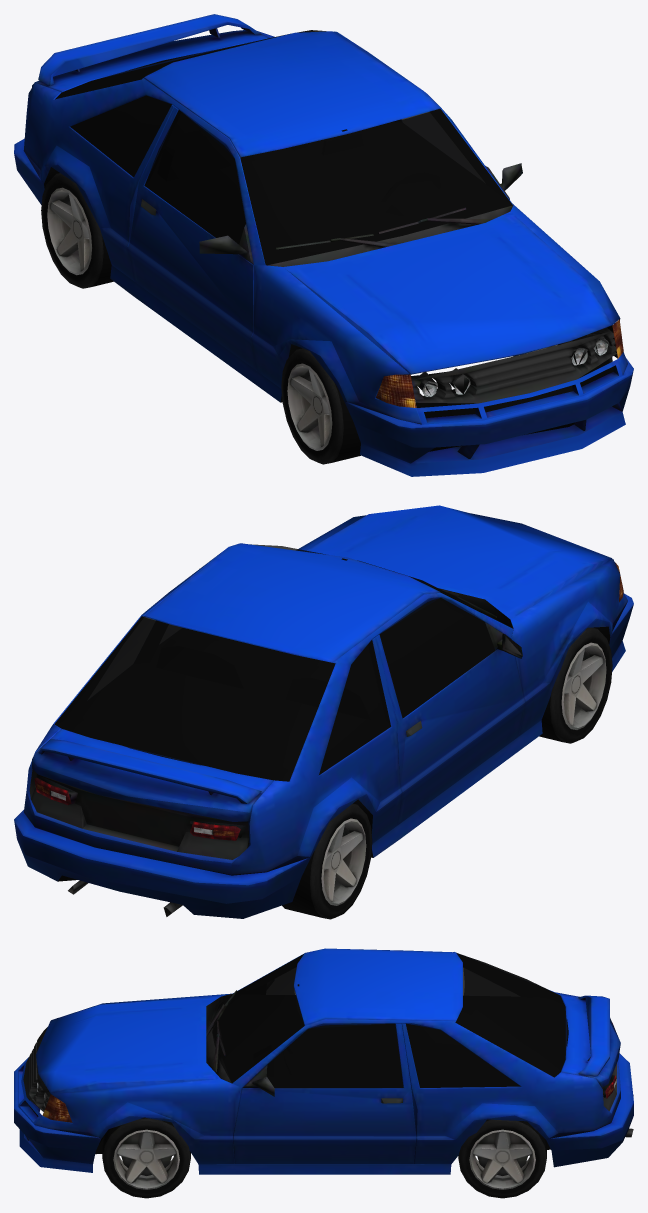
Rendered from coupe_lo.glb.
3 renders of one model, top to bottom at view 1: azimuth 30°, elevation 25°; view 2: azimuth 150°, elevation 25°; view 3: azimuth 270°, elevation 25°, orthographic. The views are drawn at different scales.
Visible parts, largest first — view 1: body, wheel_fr, wheel_rr; view 2: body, wheel_rr, wheel_fr; view 3: body, wheel_fl, wheel_rl.
Boxes of the visible parts, x1,y1,x2,y2 form: body: [14, 14, 633, 476]; wheel_fr: [281, 348, 360, 464]; wheel_rr: [41, 173, 113, 288]; body: [14, 505, 633, 918]; wheel_rr: [282, 803, 372, 919]; wheel_fr: [539, 627, 612, 743]; body: [14, 948, 633, 1174]; wheel_fl: [102, 1117, 190, 1198]; wheel_rl: [458, 1119, 546, 1198].
Bounding box in the file's own units: 1.99 × 1.33 × 4.46.
Materials: 4 (3 with a texture image).
